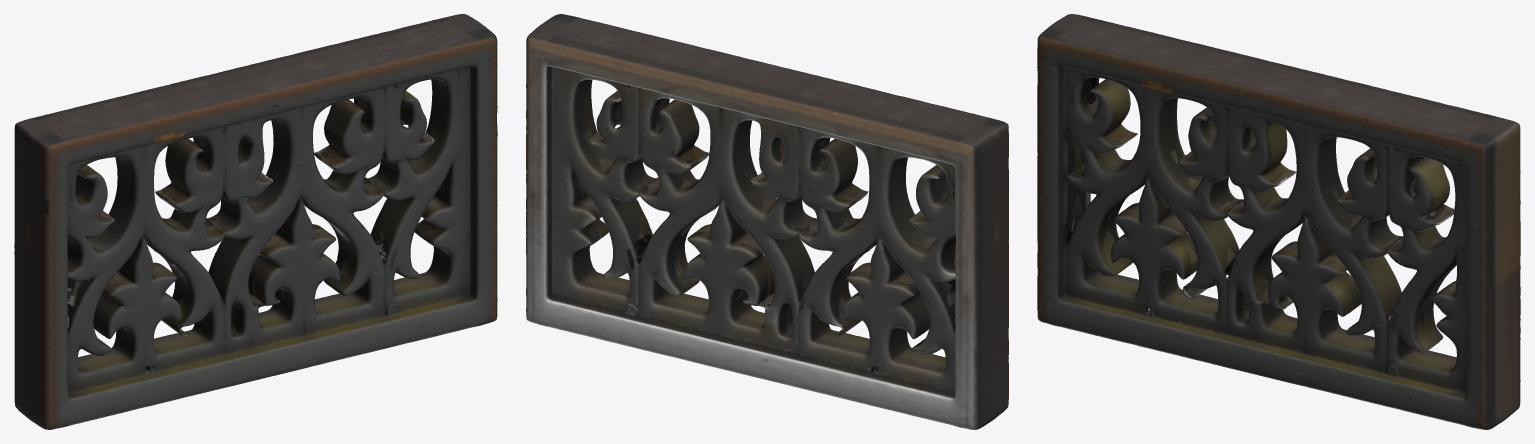
Rendered from geometric.glb.
3 views of the same model, side by side, from view 1: azimuth 30°, elevation 25°; view 2: azimuth 150°, elevation 25°; view 3: azimuth 330°, elevation 25° (orthographic).
Bounding box in the file's own units: 1.9 × 1.16 × 0.2588.
1 material, 1 textured.
